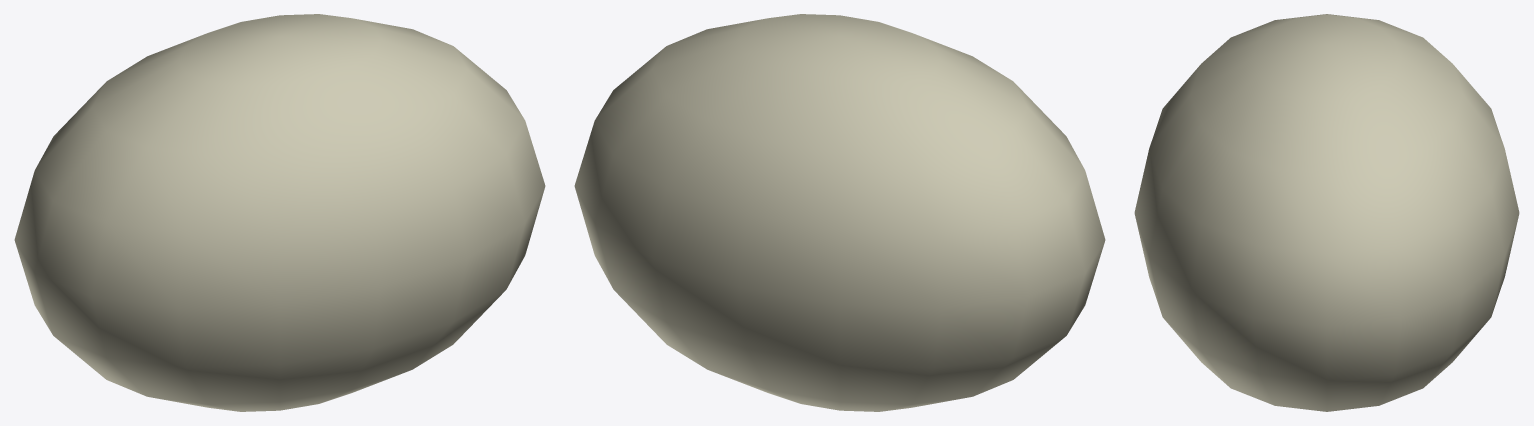
The model's file is rock.glb.
3 renders of one model, left to right at view 1: azimuth 30°, elevation 25°; view 2: azimuth 150°, elevation 25°; view 3: azimuth 270°, elevation 25°, orthographic. The views are drawn at different scales.
Parts seen in each view (by area): view 1: Body_stone; view 2: Body_stone; view 3: Body_stone.
Boxes of the visible parts, bbox=[...] form: Body_stone: bbox=[14, 14, 545, 411]; Body_stone: bbox=[574, 14, 1105, 411]; Body_stone: bbox=[1134, 14, 1519, 411].
Bounding box in the file's own units: 1.4 × 0.96 × 1.
